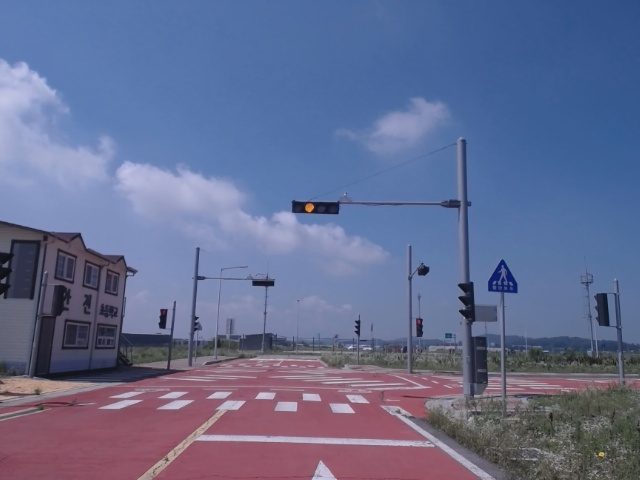orange_4: (292, 201, 339, 214)
